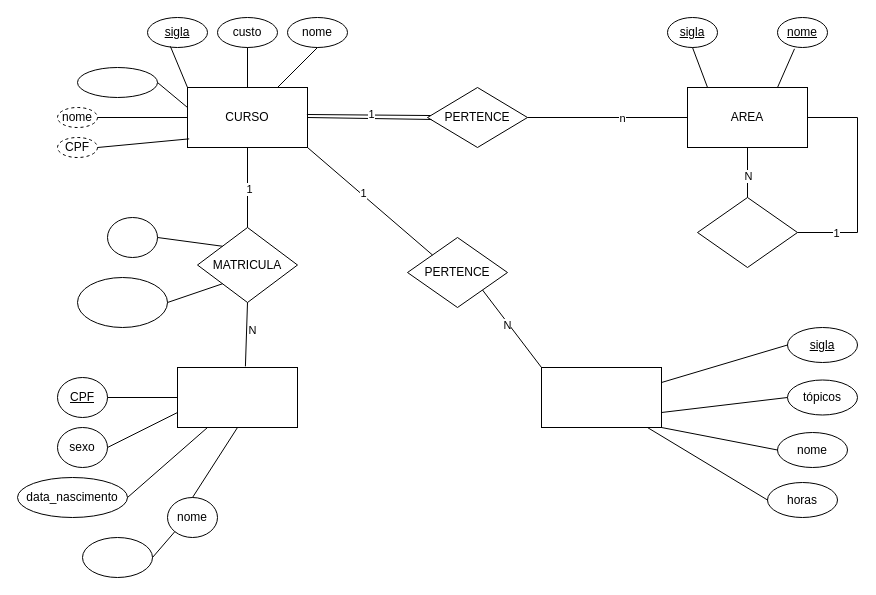
Image size: 876x595. Some labels were removed from this diagram. Each missing label, with the centre of its shape:
"ALUNO" belongs at (237,397).
"data" belongs at (132,237).
"INTEGRA" belongs at (747,232).
"mensalidade" belongs at (122,302).
"MODULO" belongs at (601,397).
"professores" belongs at (117,82).
"sobrenome" belongs at (117,557).
